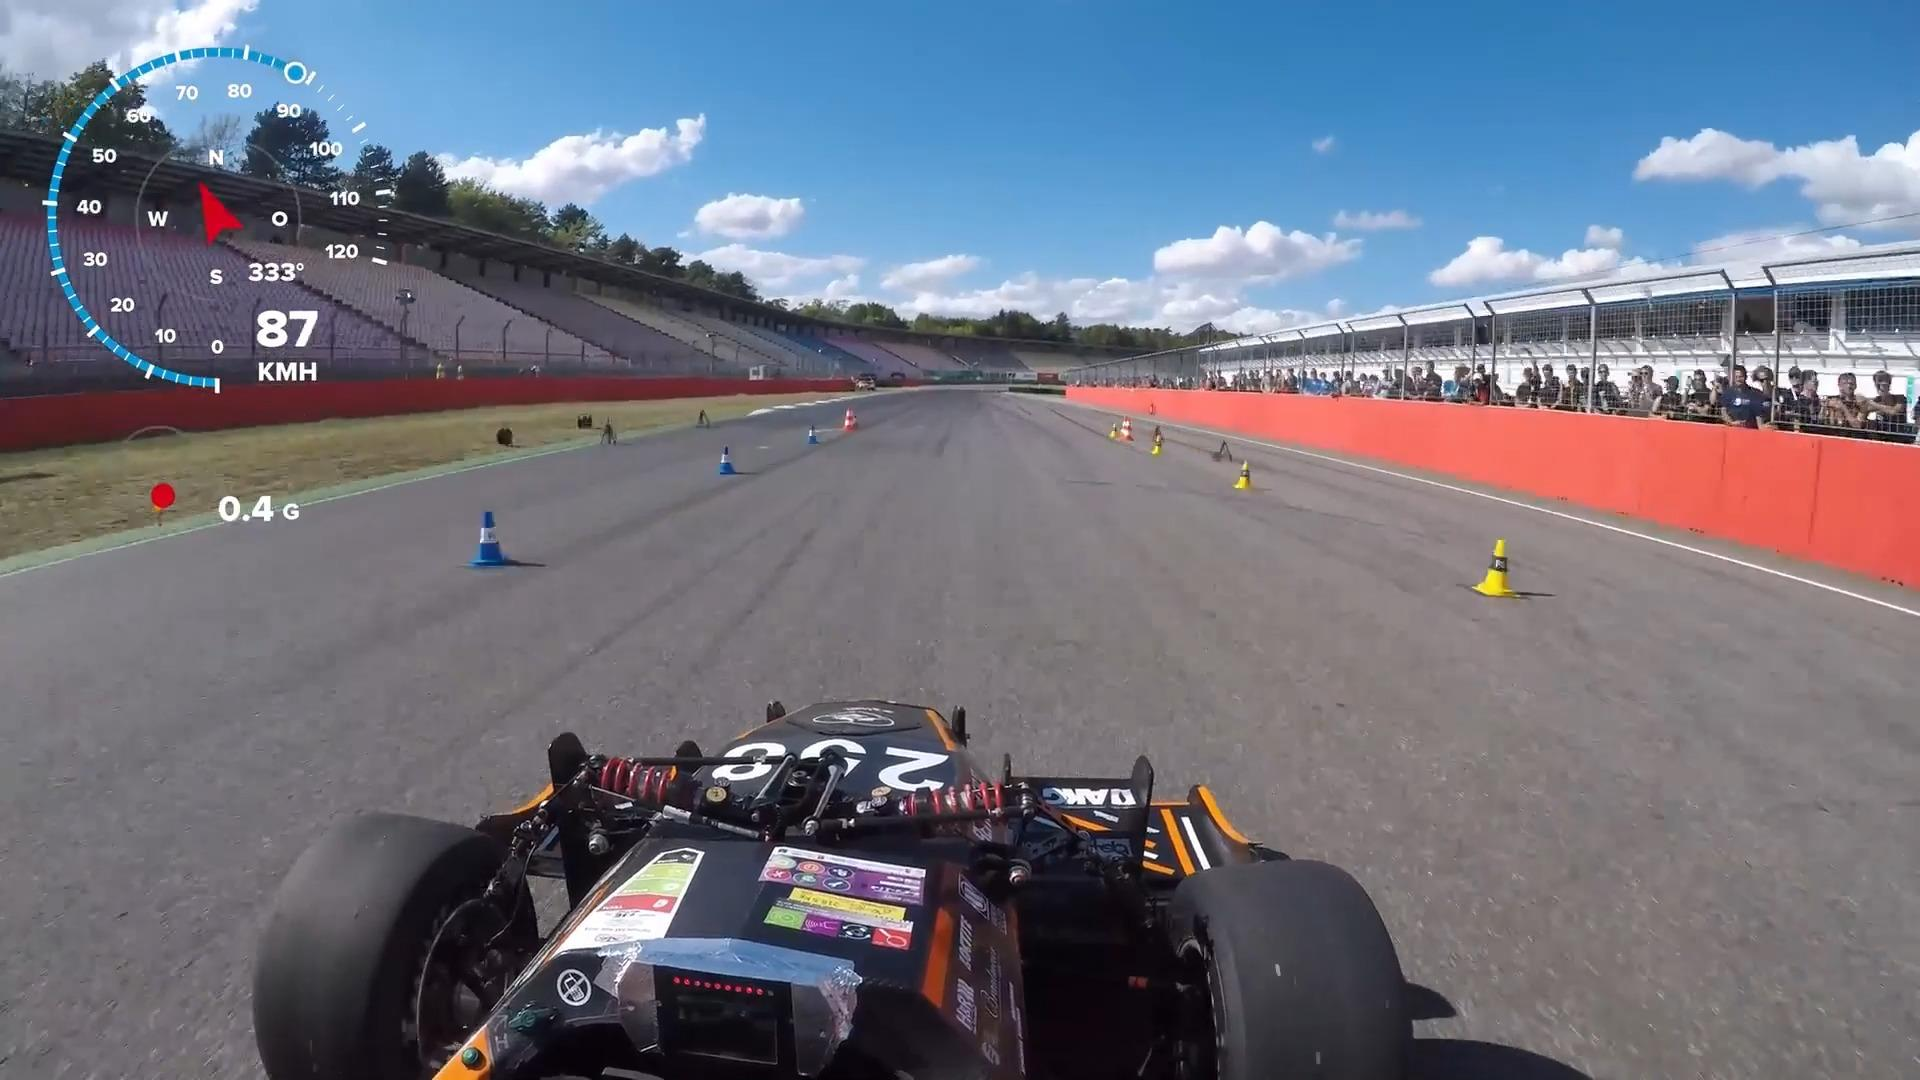blue_cone: (463, 508, 514, 568), (716, 444, 737, 476), (806, 425, 819, 444)
large_orange_cone: (843, 406, 856, 431), (1122, 417, 1134, 442)
yellow_cone: (1470, 537, 1516, 599), (1233, 460, 1253, 489), (1151, 436, 1162, 455)
